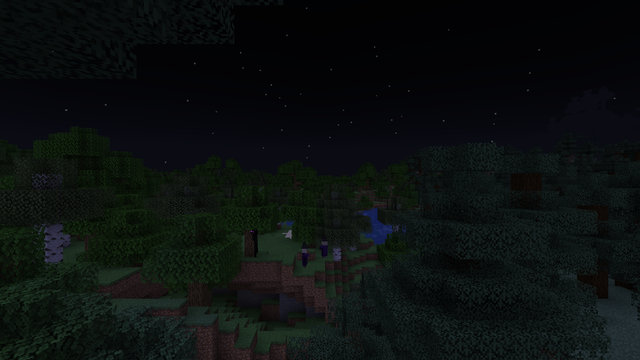endermens: (250, 234, 257, 257)
sorcieres: (301, 246, 307, 267), (321, 239, 326, 258)
